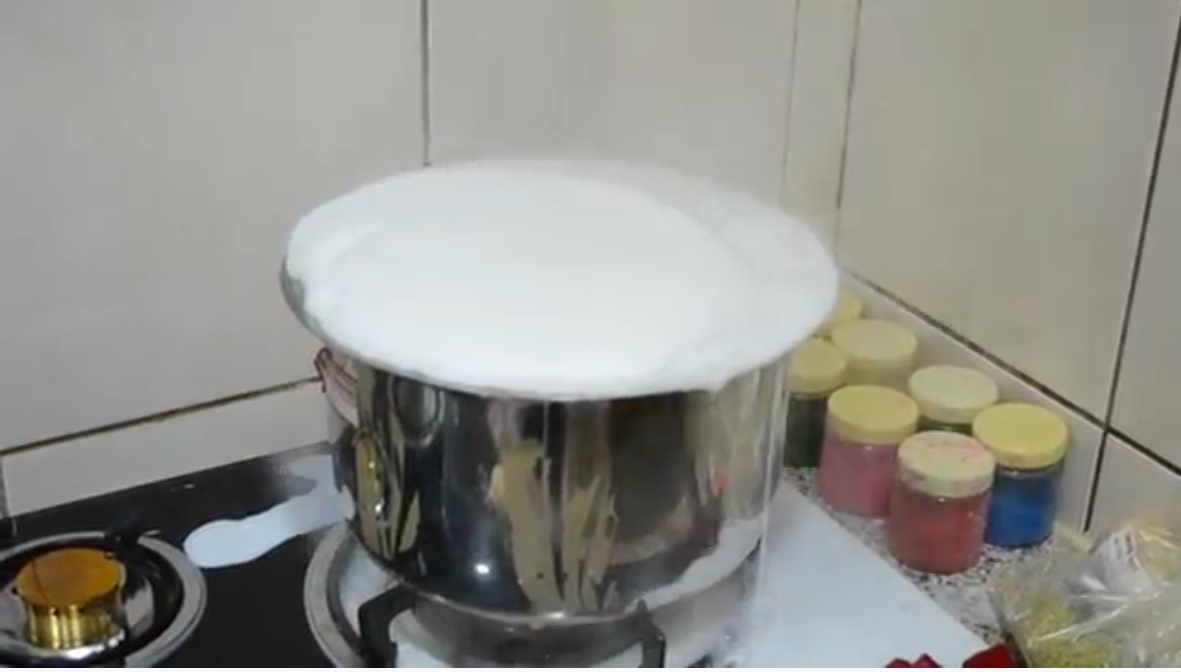Boiled: (268, 140, 837, 571)
